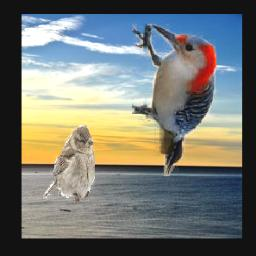Sparrow: (43, 125, 95, 208)
Woodpecker: (132, 24, 216, 176)
